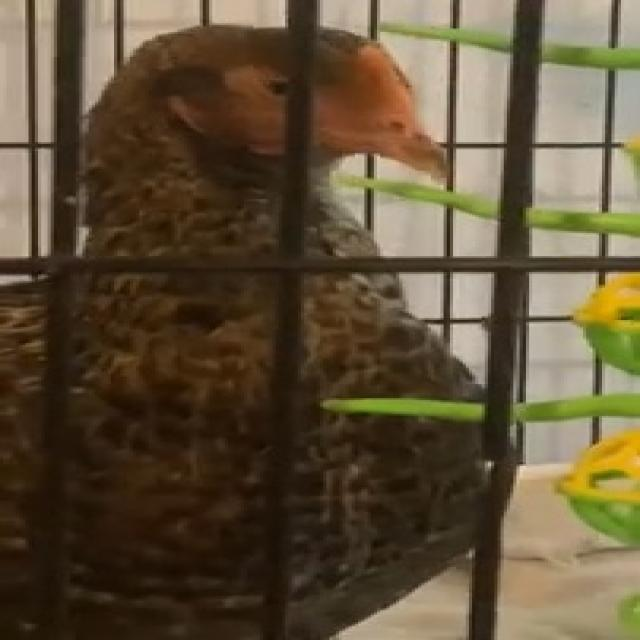Breathing: (0, 21, 513, 638)
